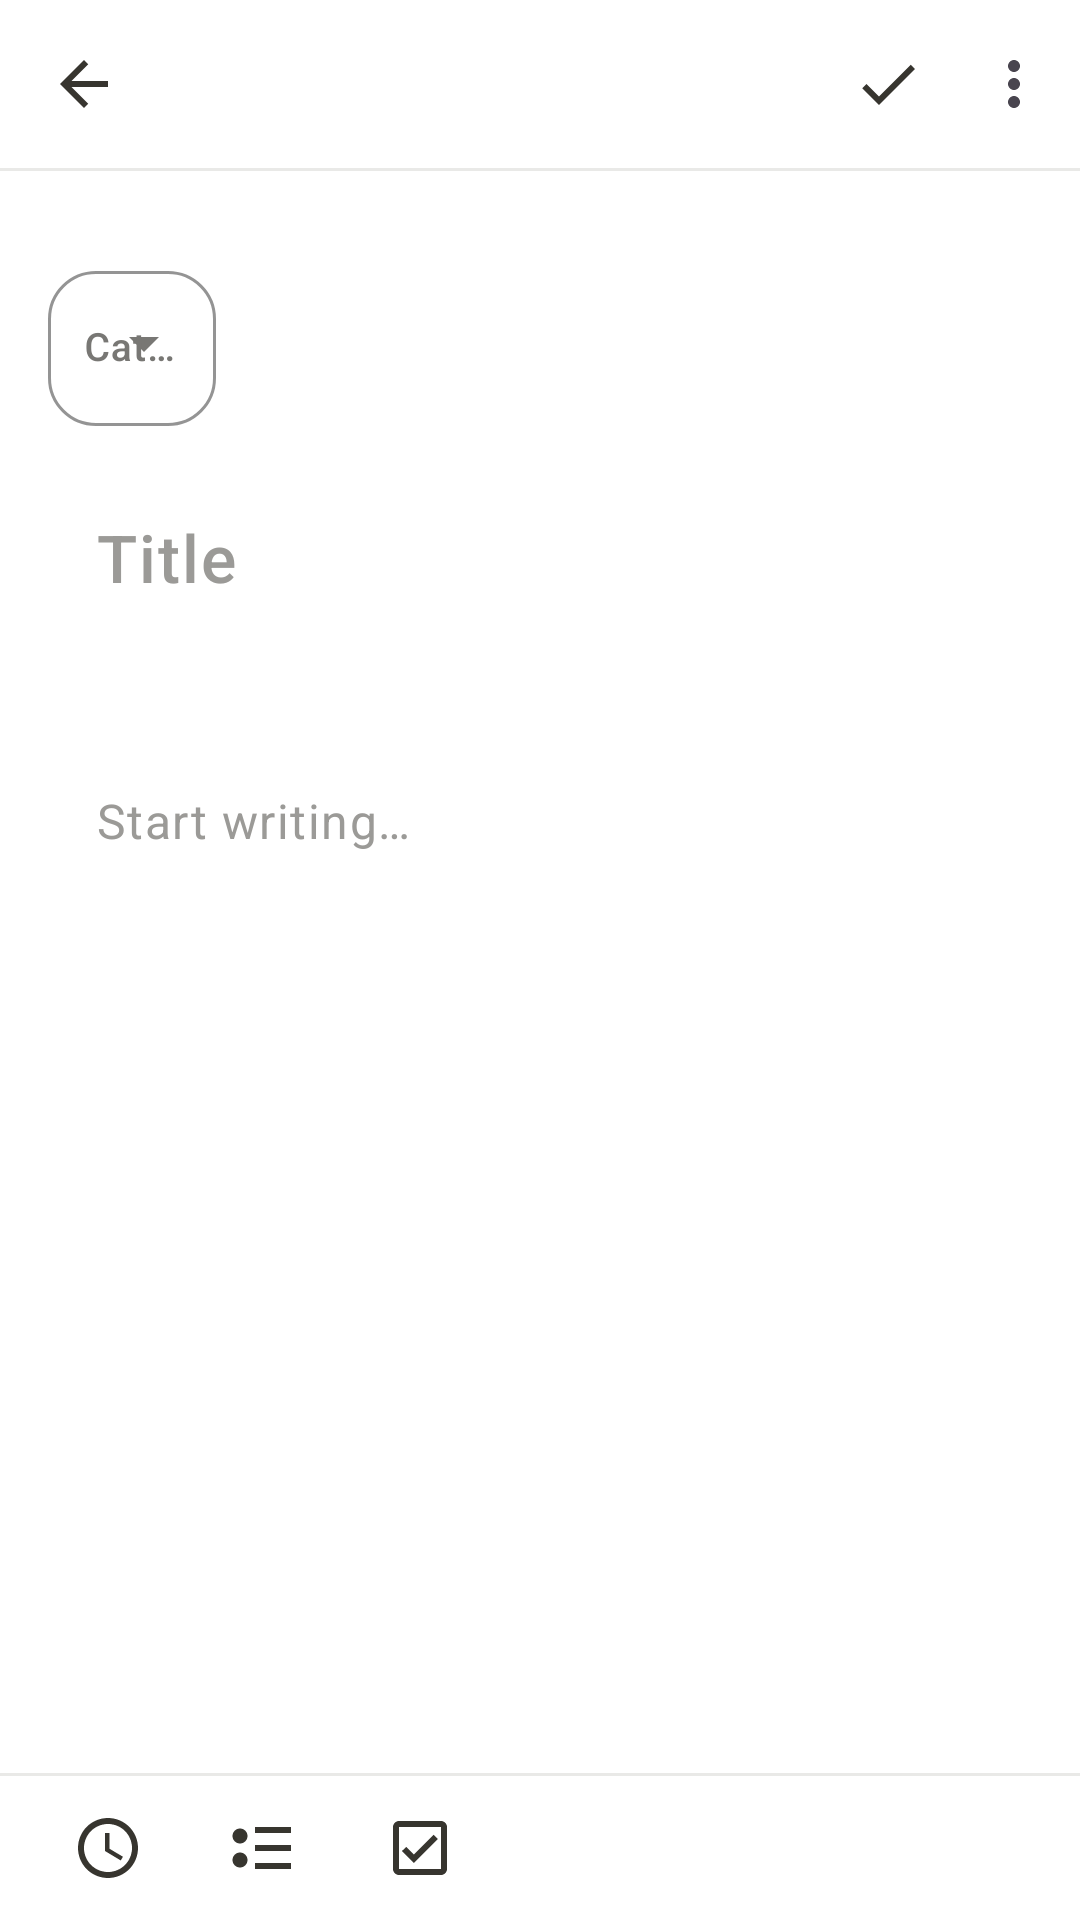

Named icons in this screenshot (1080*1920) and their centers, (x,y):
Insert bullet item: (261,1848)
Insert checklist item: (420,1848)
Insert current timestamp: (108,1848)
